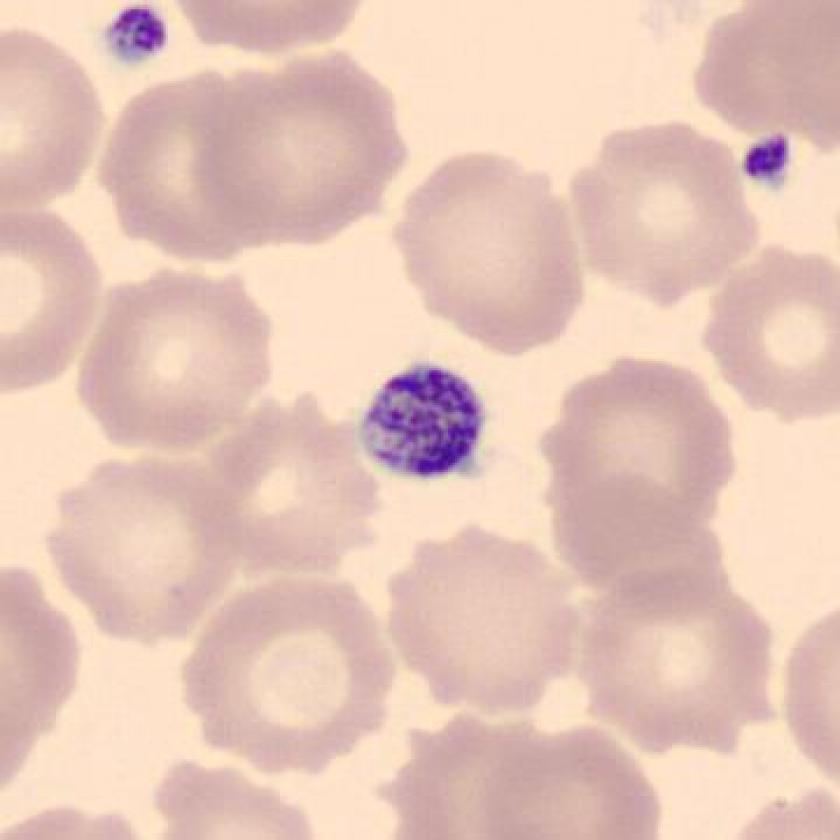platelets: (354, 355, 494, 485), (106, 8, 178, 63), (736, 128, 794, 191)
